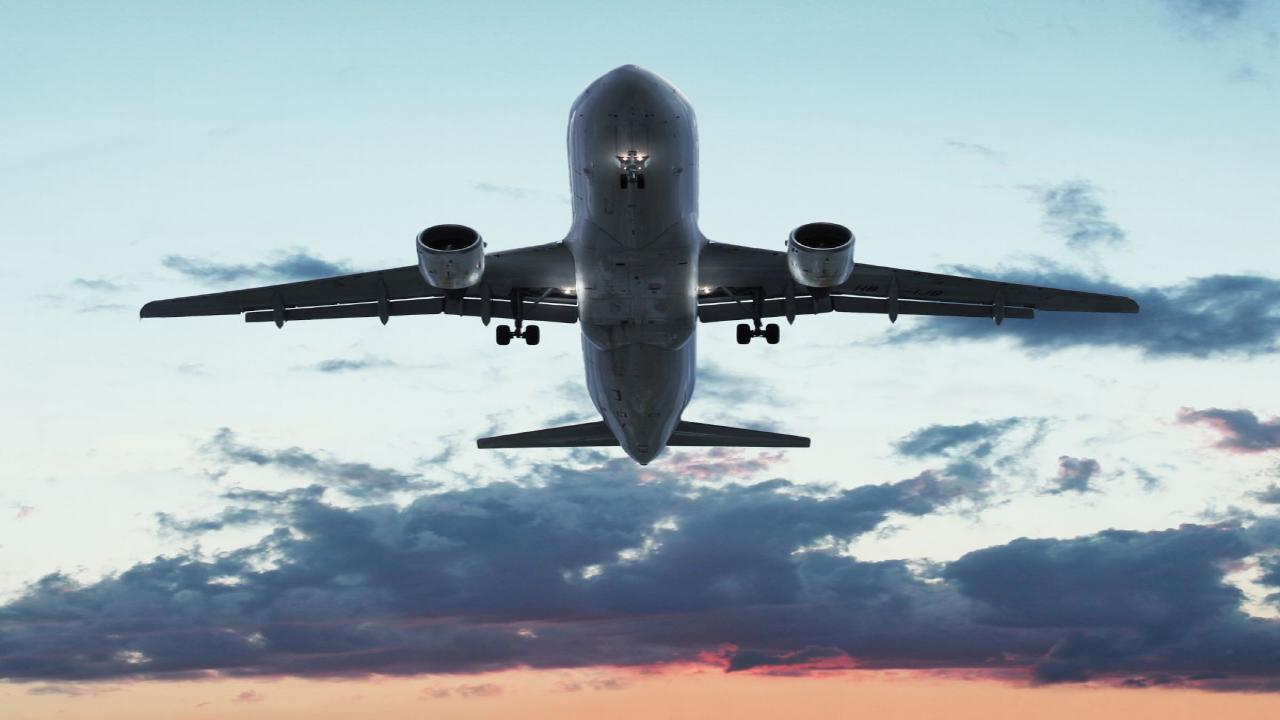Airplane: (115, 53, 1162, 478)
